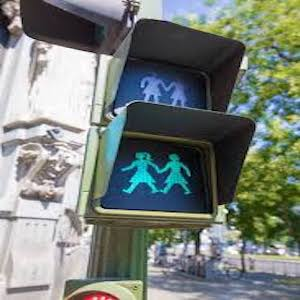green: (122, 143, 204, 205)
